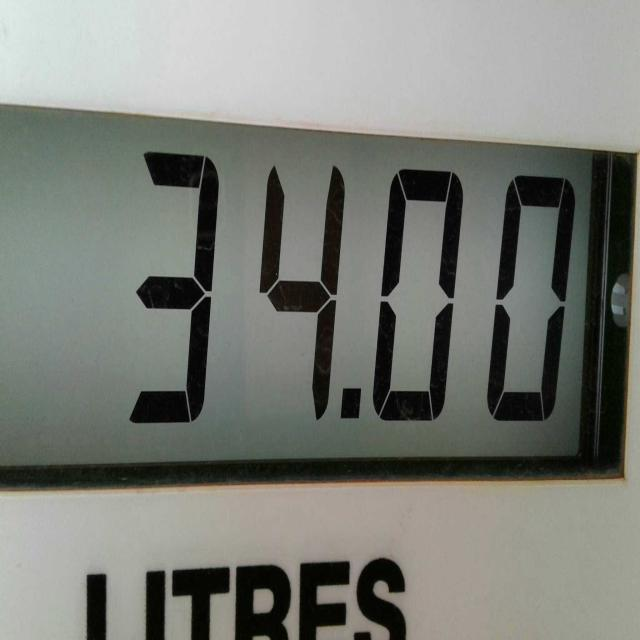.: (336, 368, 372, 438)
0: (479, 160, 589, 443), (369, 154, 475, 446)
3: (121, 133, 229, 450)
4: (251, 142, 353, 427)
